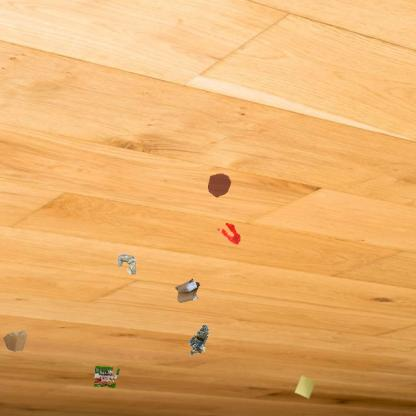dirty: (172, 276, 202, 306), (188, 323, 211, 358), (92, 364, 121, 390), (2, 329, 30, 353), (115, 251, 139, 277), (293, 374, 317, 400)
liquid: (207, 172, 232, 199), (216, 222, 242, 244)
